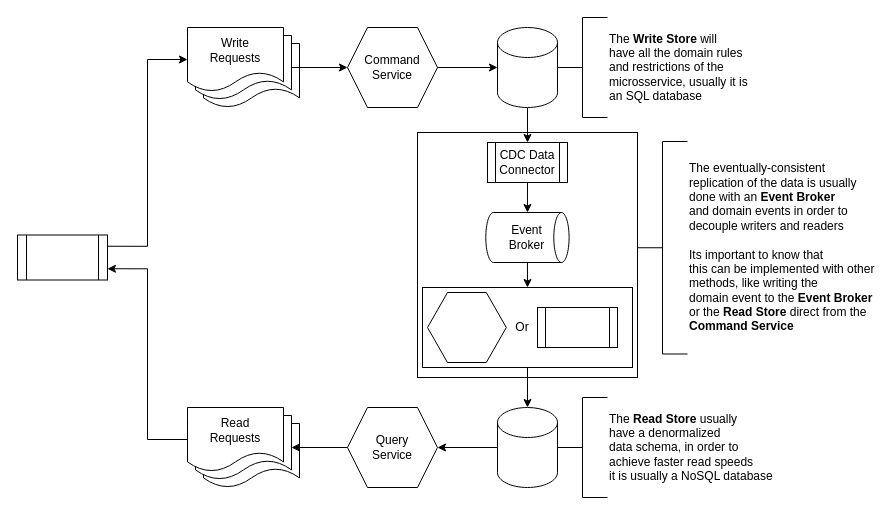
Image size: 892x515. Some labels were removed from this diagram. The centre of each missing label's shape, as x and y in pixels:
"Data Connector" belongs at point 577,327.
"Event Writer Service" belongs at point 466,327.
"Read Store" belongs at point 527,447.
"UI" belongs at point 62,257.
"Write Store" belongs at point 527,67.
